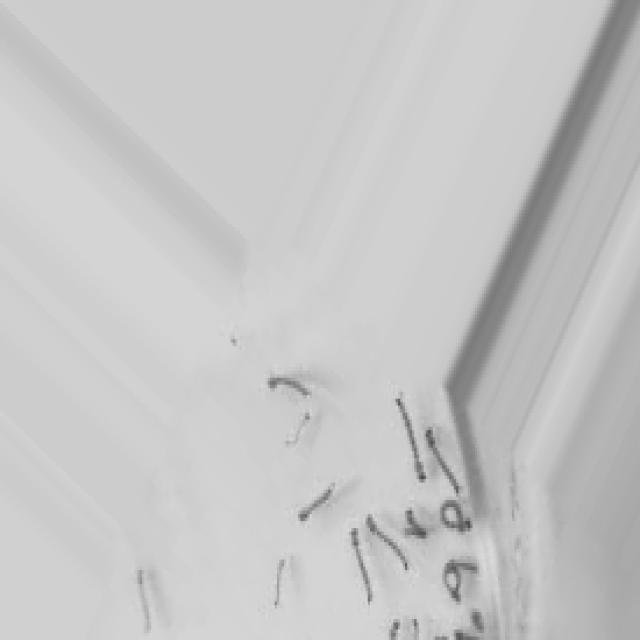larvas: (361, 509, 413, 574), (428, 428, 465, 492), (399, 400, 424, 480), (298, 479, 338, 522), (350, 527, 370, 605), (441, 499, 471, 532), (268, 372, 308, 396), (135, 571, 149, 632), (286, 412, 309, 446), (388, 620, 422, 640), (443, 563, 461, 600), (274, 562, 287, 604), (404, 514, 424, 539), (451, 557, 476, 573)
